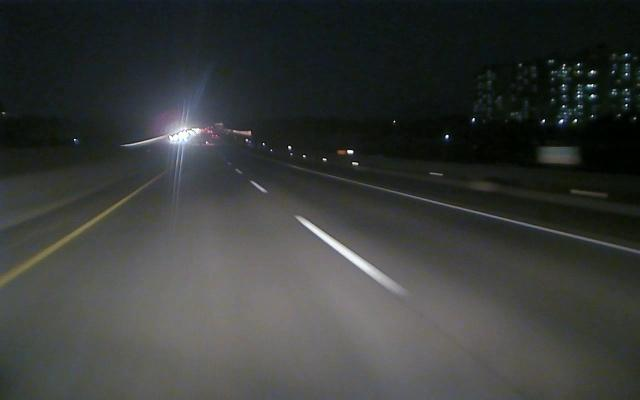lane: (353, 181, 637, 256), (251, 181, 411, 298), (3, 200, 123, 285)
